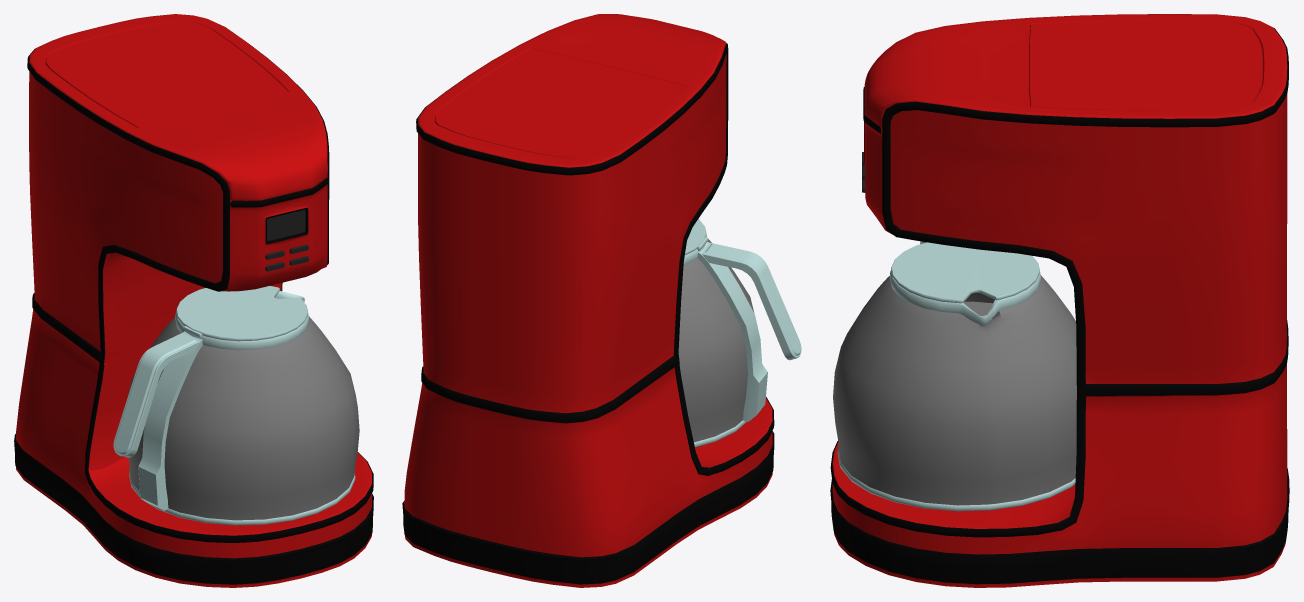
Rendered from CoffeeMachine1.fbx.
3 renders of one model, left to right at view 1: azimuth 30°, elevation 25°; view 2: azimuth 150°, elevation 25°; view 3: azimuth 270°, elevation 25°, orthographic. The views are drawn at different scales.
Visible parts, largest first — view 1: CoffeeMachine1, CoffeePotGlass1, CoffeePot1; view 2: CoffeeMachine1, CoffeePotGlass1, CoffeePot1; view 3: CoffeeMachine1, CoffeePotGlass1, CoffeePot1.
Part boxes in pixels (bbox=[...]): CoffeeMachine1: bbox=[14, 14, 373, 587]; CoffeePotGlass1: bbox=[127, 316, 359, 520]; CoffeePot1: bbox=[113, 286, 355, 525]; CoffeeMachine1: bbox=[402, 14, 774, 587]; CoffeePotGlass1: bbox=[678, 239, 754, 442]; CoffeePot1: bbox=[683, 219, 801, 447]; CoffeeMachine1: bbox=[830, 14, 1289, 587]; CoffeePotGlass1: bbox=[833, 275, 1076, 505]; CoffeePot1: bbox=[837, 241, 1075, 511].
Size of the model in its own units: 108 by 161 by 146.
